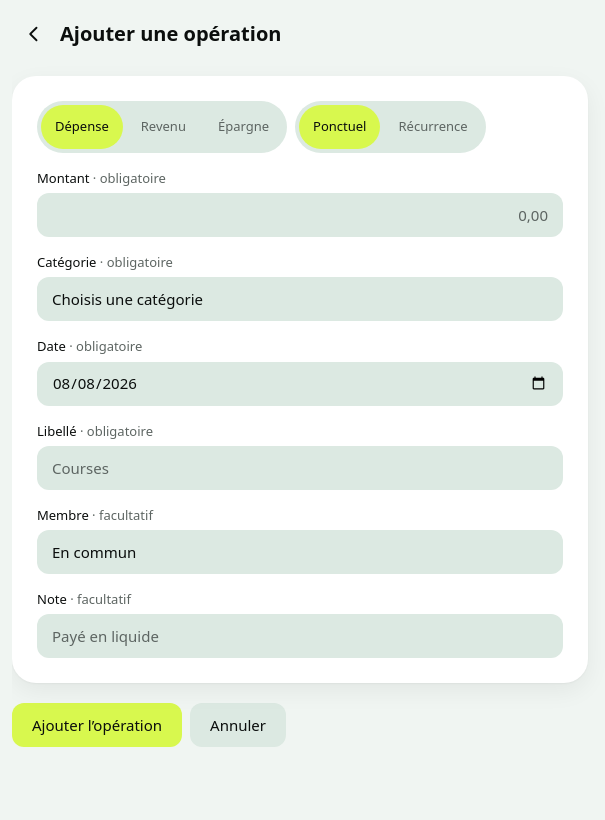
Test: la saisie d’un mouvement d’épargne › exige le support, et le dit
The width and height of the screenshot is (605, 820).
Click the radio button labelled "Épargne". click: (243, 127)
box: [204, 105, 283, 149]
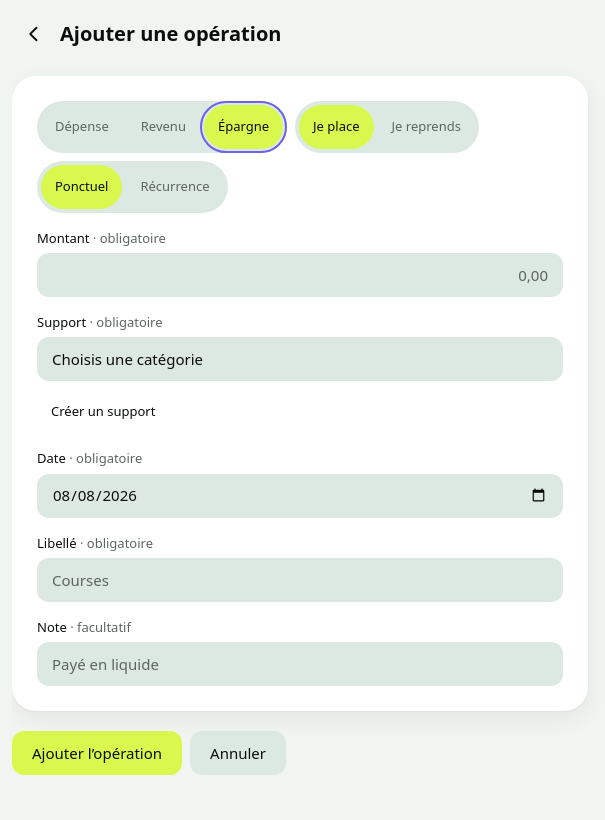
Type "300" into the field labelled "Montant · obligatoire". click: (300, 275)
box: [37, 253, 563, 297]
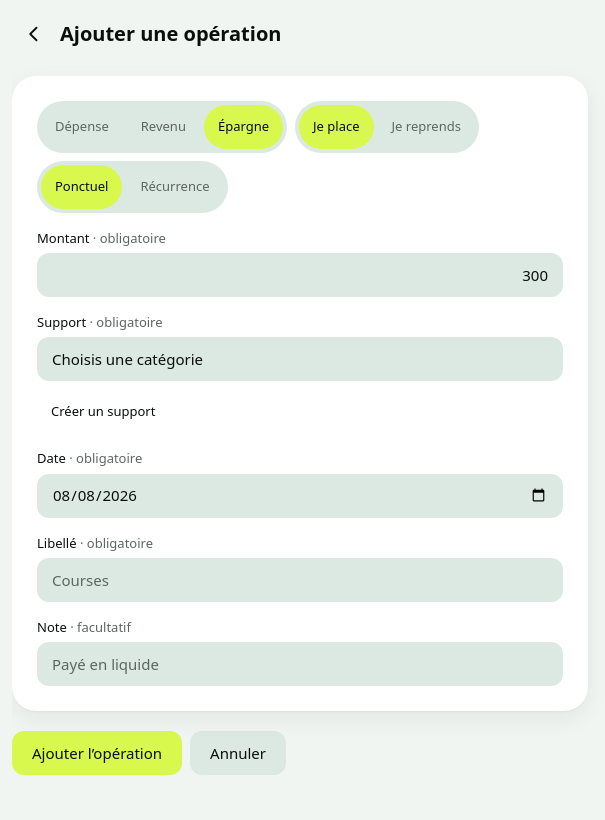
Type "Virement livret" into the field labelled "Libellé · obligatoire". click: (300, 580)
box: [37, 558, 563, 602]
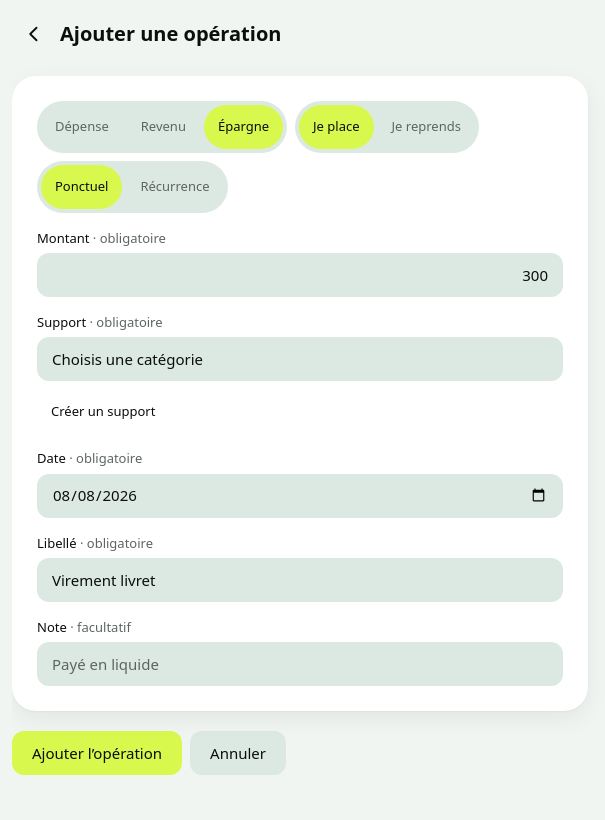
Click the button "Ajouter l’opération". click: (97, 753)
box: [12, 731, 182, 775]
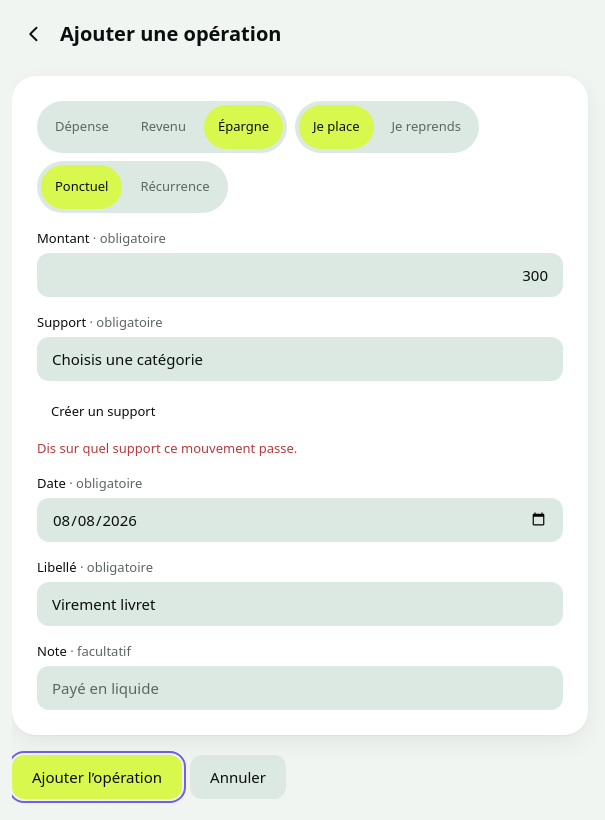
Result: the text "Dis sur quel support ce mouvement passe." is shown at [37, 439, 297, 457]
